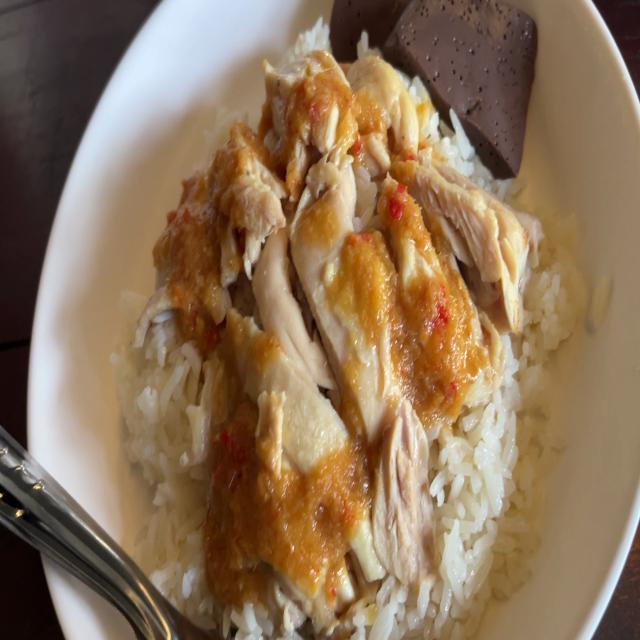boiled_chicken: (152, 62, 492, 564)
boiled_chicken_blood_jelly: (338, 0, 536, 165)
chicken_rice: (112, 0, 613, 628)
